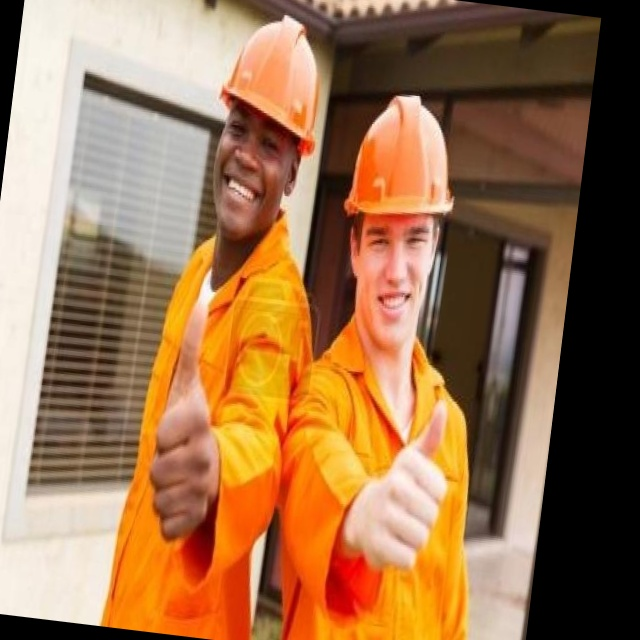Sin_Casco_Mascarrilla: (329, 87, 468, 342), (203, 4, 333, 234)
